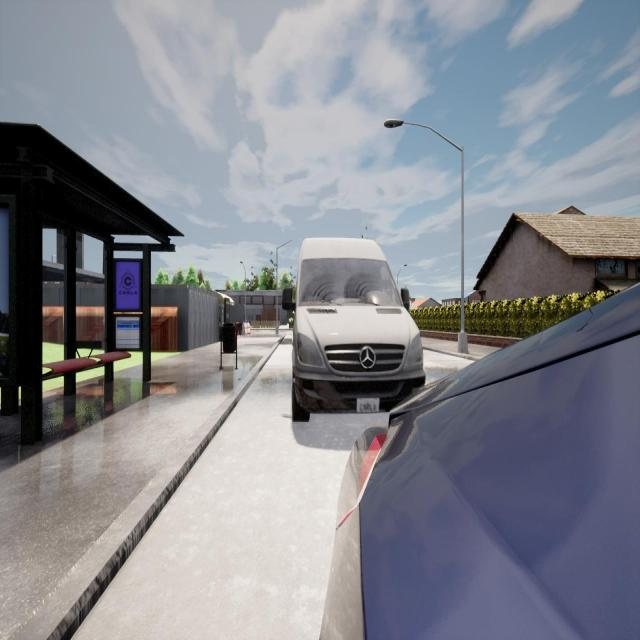Vehicle: (318, 281, 640, 640), (282, 238, 426, 422)
